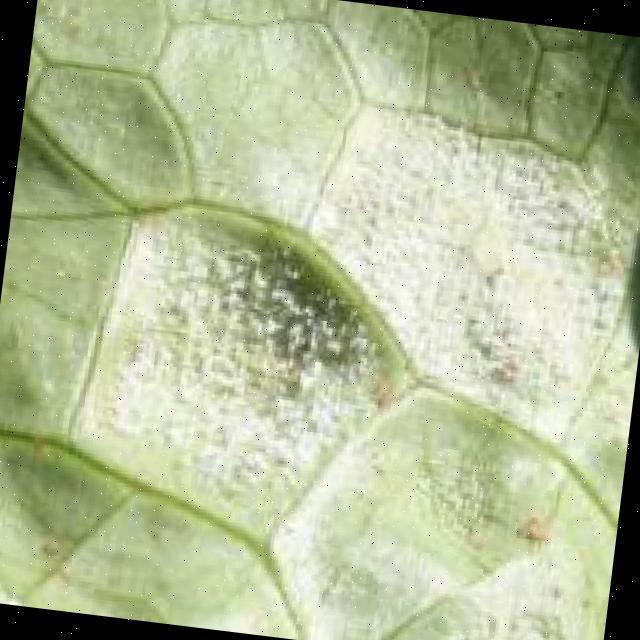Powdery_Mildew: (189, 82, 607, 515)
